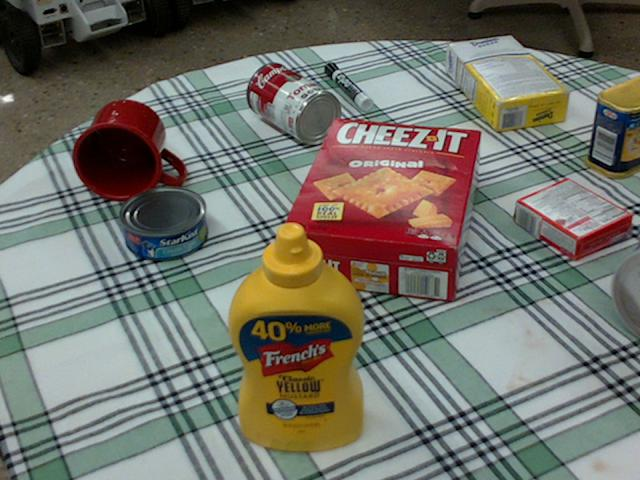cracker_box: (280, 118, 485, 301)
gelatin_box: (513, 178, 629, 257)
large_marker: (324, 62, 371, 109)
master_chef_can: (614, 245, 639, 337)
mug: (72, 99, 184, 200)
mustard_bottle: (228, 221, 365, 450)
potted_meat_can: (582, 75, 639, 178)
sugar_box: (446, 36, 571, 131)
tomato_soup_can: (245, 61, 340, 142)
tuna_fish_can: (117, 186, 206, 259)
